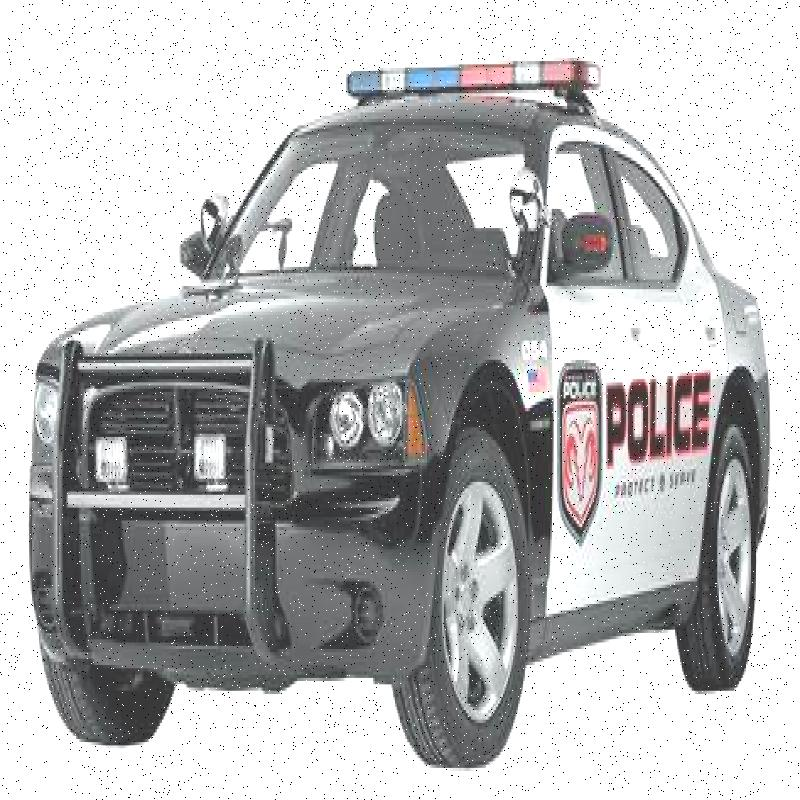AmbulanceSiren: (331, 43, 603, 118)
